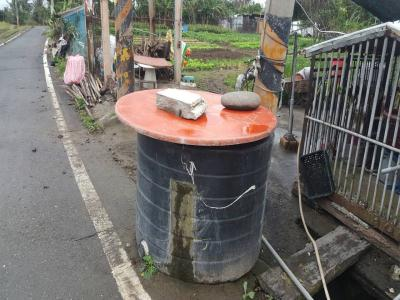bucket: (134, 128, 277, 285)
